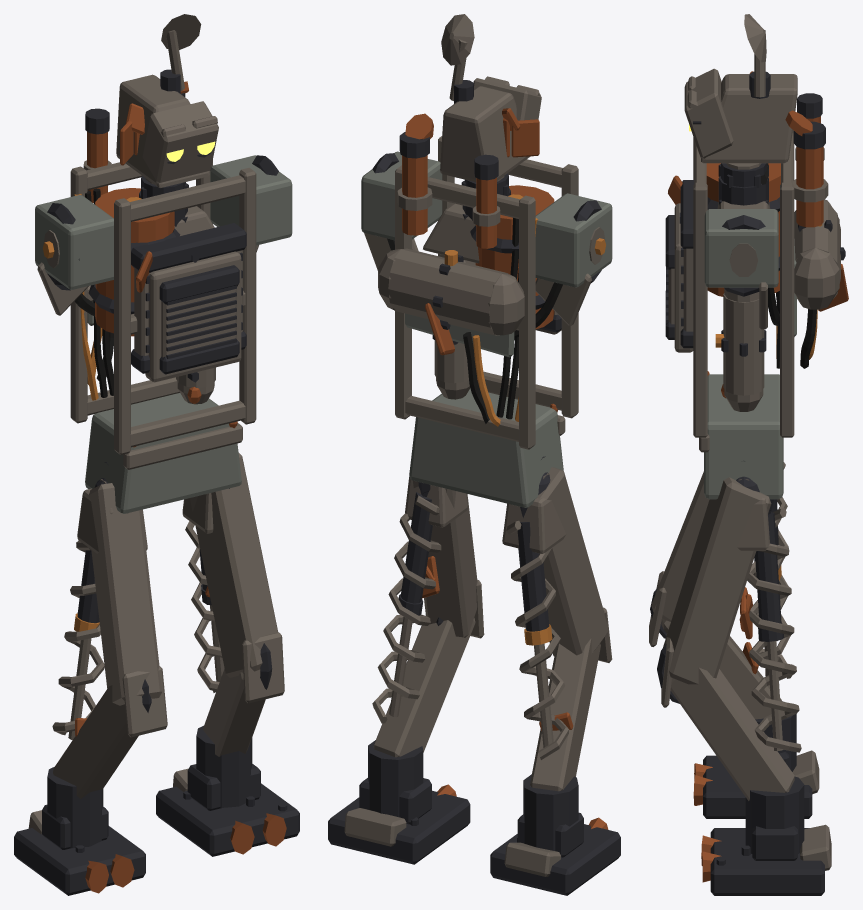
The model's file is ch_lancer.glb.
The picture shows the model from 3 angles, left to right: view 1: azimuth 30°, elevation 25°; view 2: azimuth 150°, elevation 25°; view 3: azimuth 270°, elevation 25°; orthographic projection.
Visible parts, largest first — view 1: ch_lancer, limb_leg_l, limb_leg_r; view 2: ch_lancer, limb_leg_l, limb_leg_r; view 3: ch_lancer, limb_leg_r, limb_leg_l.
Part boxes in pixels (x1,y1,x2,y2): ch_lancer: (35, 14, 292, 513); limb_leg_l: (14, 478, 167, 895); limb_leg_r: (156, 453, 299, 856); ch_lancer: (361, 14, 612, 517); limb_leg_l: (490, 467, 620, 895); limb_leg_r: (328, 477, 484, 864); ch_lancer: (665, 14, 848, 510); limb_leg_r: (657, 476, 831, 895); limb_leg_l: (649, 462, 819, 818).
Size of the model in its own units: 0.2751 by 0.9179 by 0.1994.
